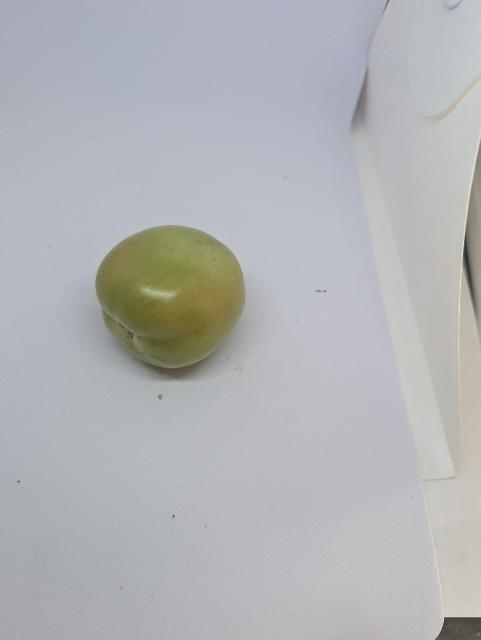green: (94, 222, 248, 370)
